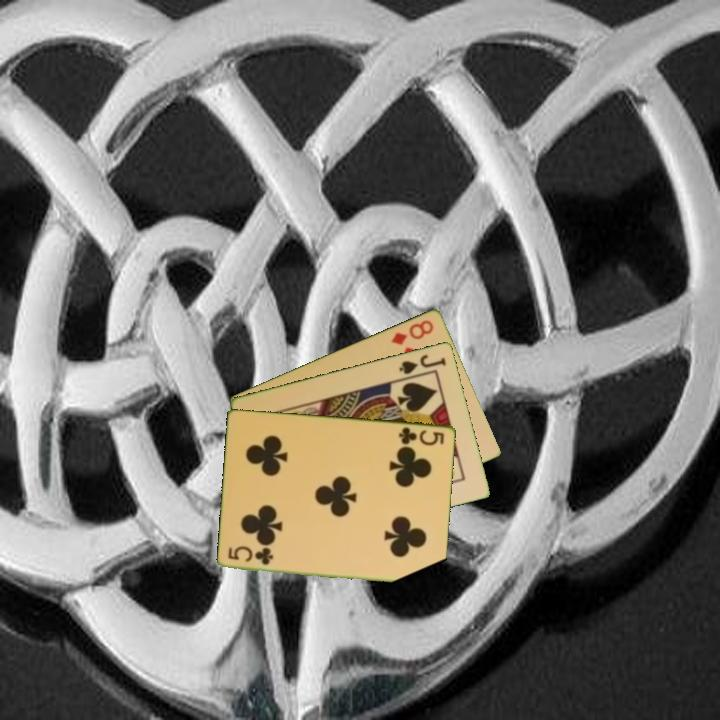5c: (395, 423, 447, 448), (225, 544, 276, 567)
8d: (388, 316, 437, 348)
Js: (395, 351, 449, 377)
